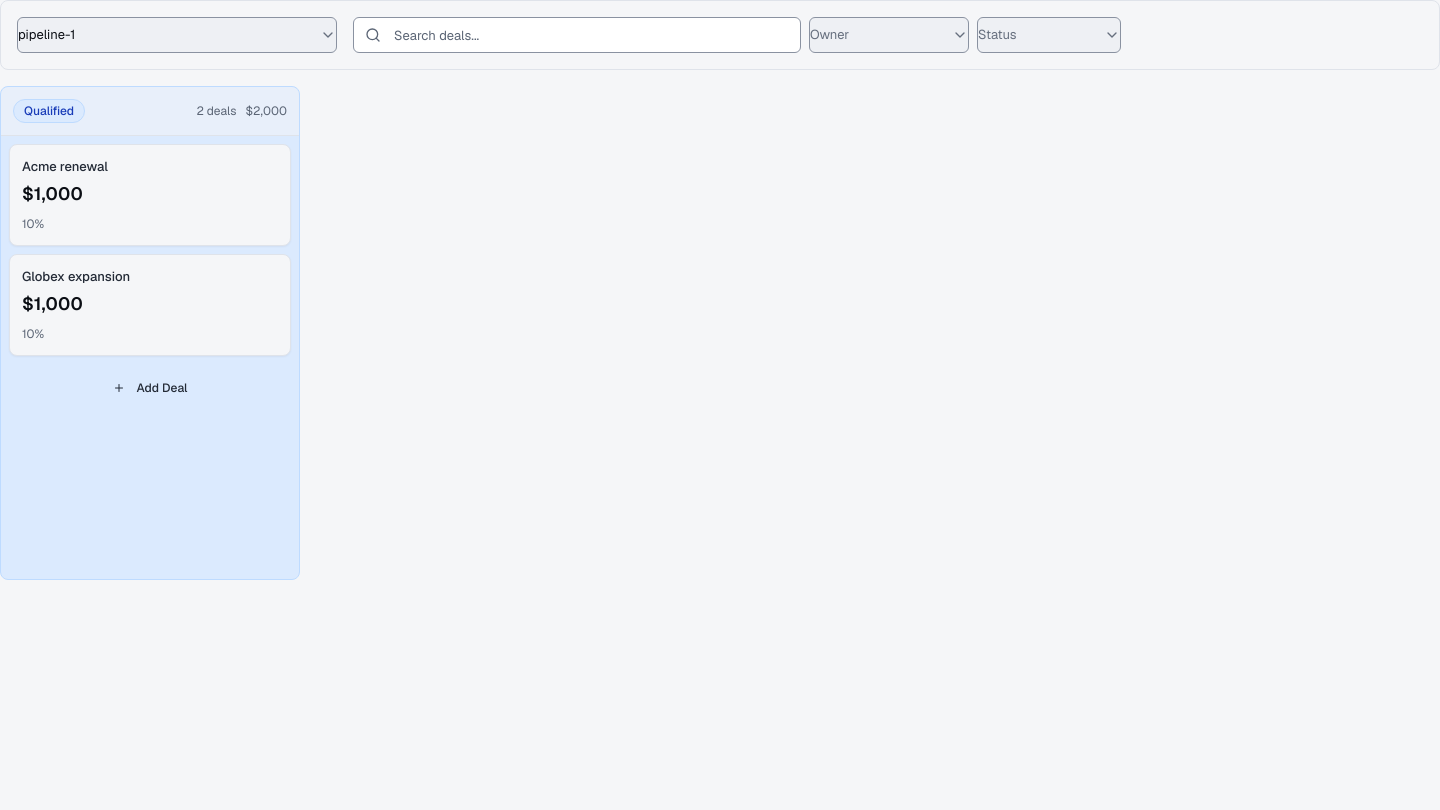
Test: filtering › narrows by name
This screenshot has width=1440, height=810.
Type "globex" into the field with placeholder "Search deals..." at (577, 35), box [353,17,801,53]
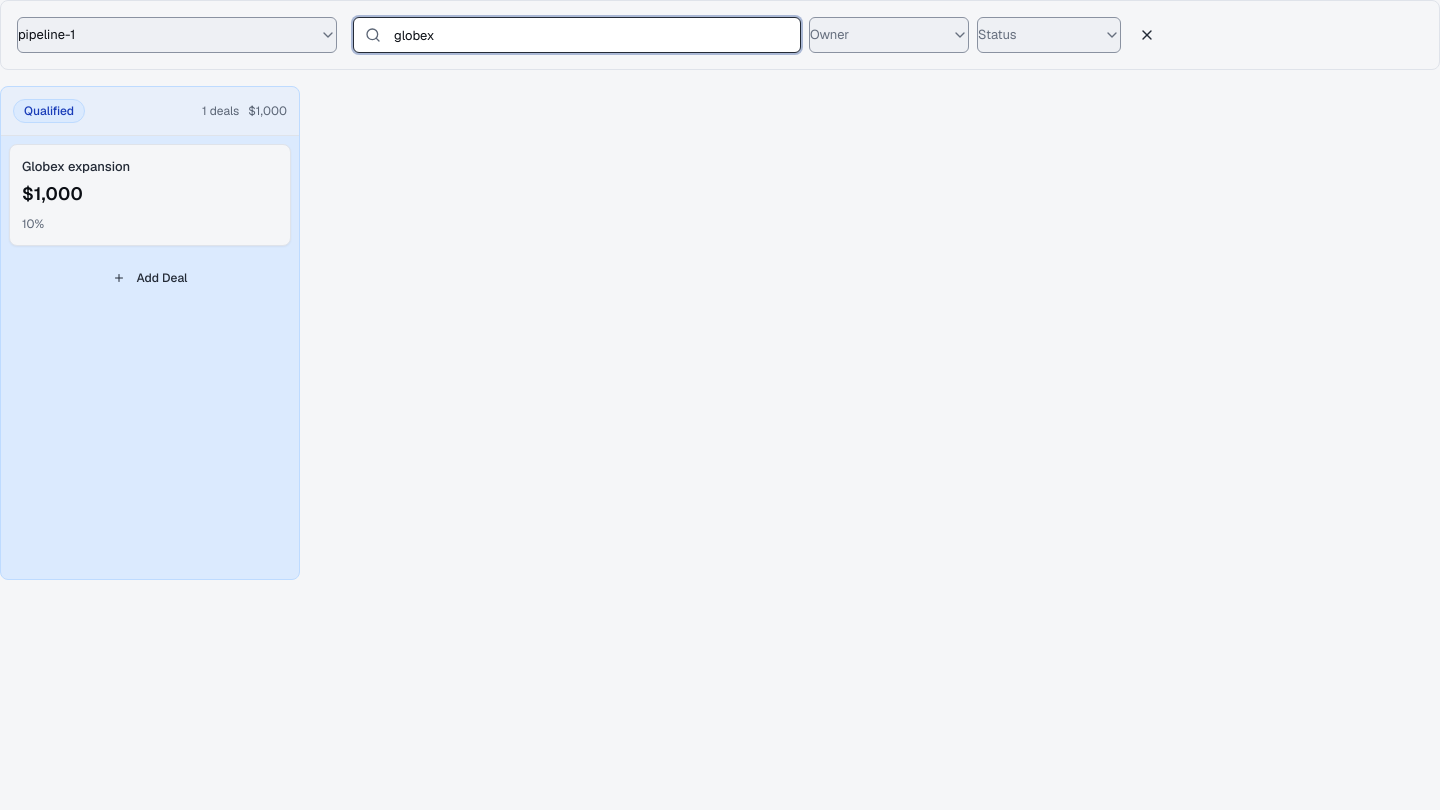
Expected: the text "Globex expansion" is shown, [22,158,130,175]
Expected: the text "Acme renewal" is gone
